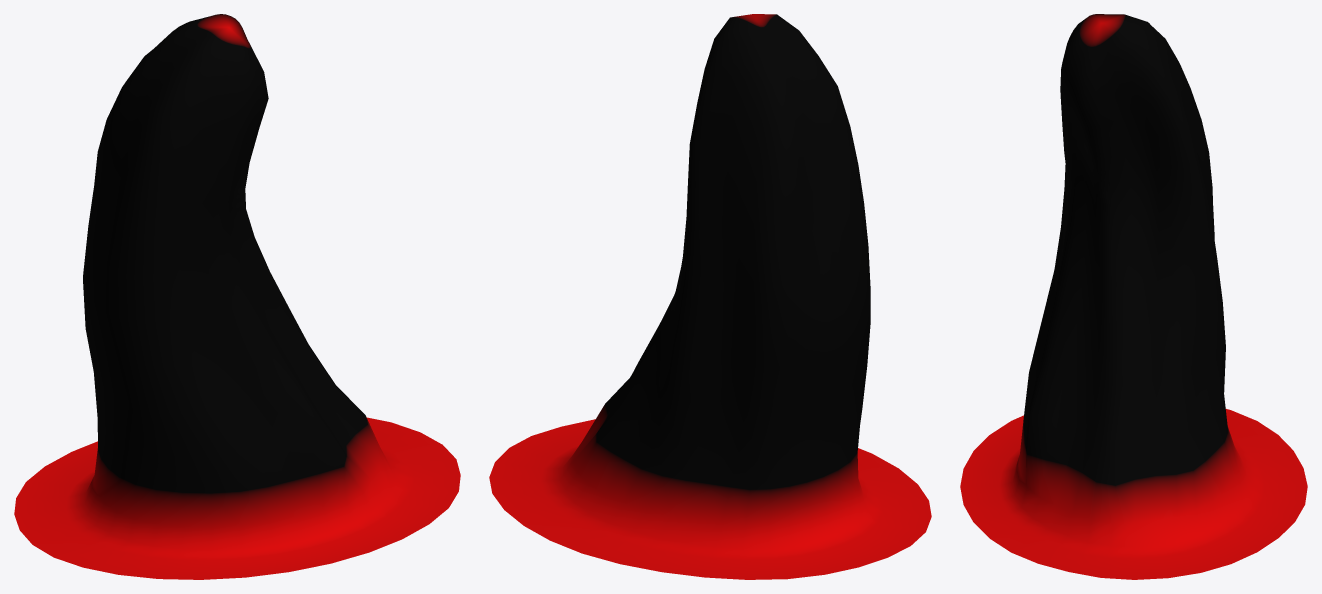
Rendered from GroundObject02D.fbx.
3 views of the same model, side by side, from view 1: azimuth 30°, elevation 25°; view 2: azimuth 150°, elevation 25°; view 3: azimuth 270°, elevation 25° (orthographic). The views are drawn at different scales.
Visible parts, largest first — view 1: GroundObject02D; view 2: GroundObject02D; view 3: GroundObject02D.
Boxes of the visible parts, left/top/right/bottom form: GroundObject02D: left=14, top=14, right=460, bottom=579; GroundObject02D: left=489, top=14, right=931, bottom=579; GroundObject02D: left=960, top=14, right=1307, bottom=579.
Bounding box in the file's own units: 1.76 × 2.01 × 1.39.
